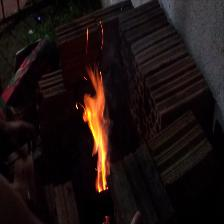fire: (63, 51, 134, 200)
